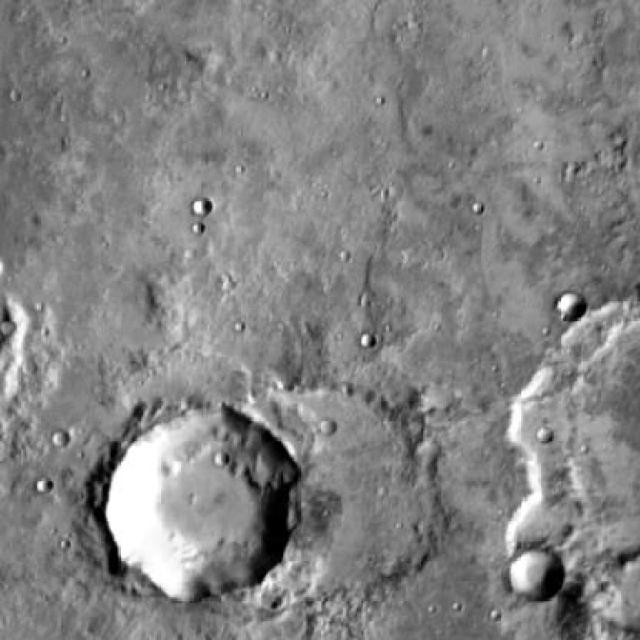crater: (196, 375, 430, 597), (90, 405, 288, 593), (507, 548, 562, 600), (554, 291, 584, 318), (191, 199, 211, 218), (54, 429, 72, 448), (534, 428, 552, 444), (318, 421, 336, 436)
